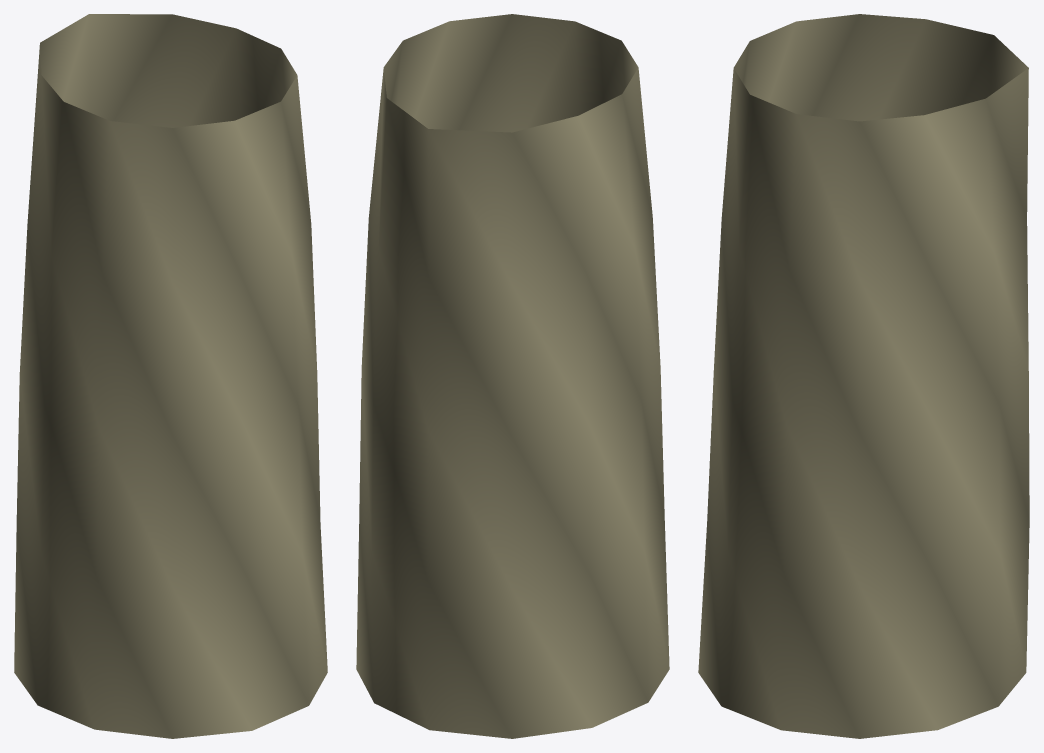
Rendered from tin_armor_greave.L.glb.
The picture shows the model from 3 angles, left to right: view 1: azimuth 30°, elevation 25°; view 2: azimuth 150°, elevation 25°; view 3: azimuth 270°, elevation 25°; orthographic projection.
Visible parts, largest first — view 1: tin_armor_greave.L; view 2: tin_armor_greave.L; view 3: tin_armor_greave.L.
Part boxes in pixels (bbox=[...]): tin_armor_greave.L: bbox=[14, 14, 327, 738]; tin_armor_greave.L: bbox=[356, 14, 669, 738]; tin_armor_greave.L: bbox=[698, 14, 1029, 738].
Size of the model in its own units: 0.1774 by 0.3767 by 0.187.
